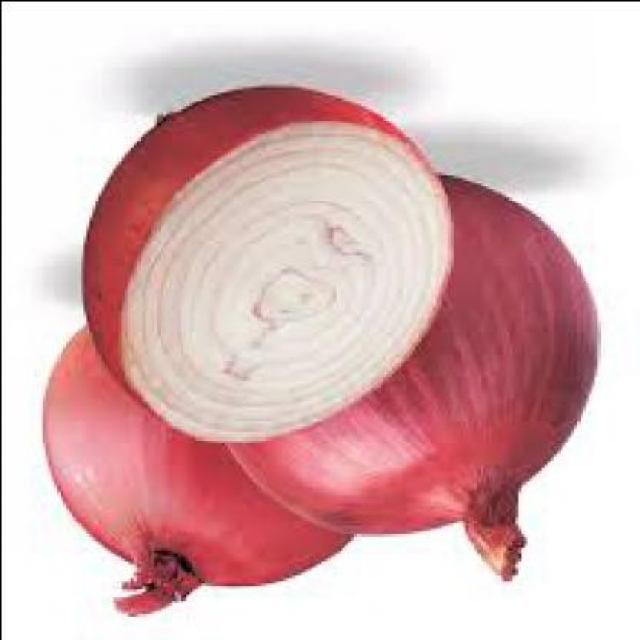BIODEGRADABLE: (223, 176, 599, 582), (79, 85, 452, 447), (42, 325, 356, 618)
